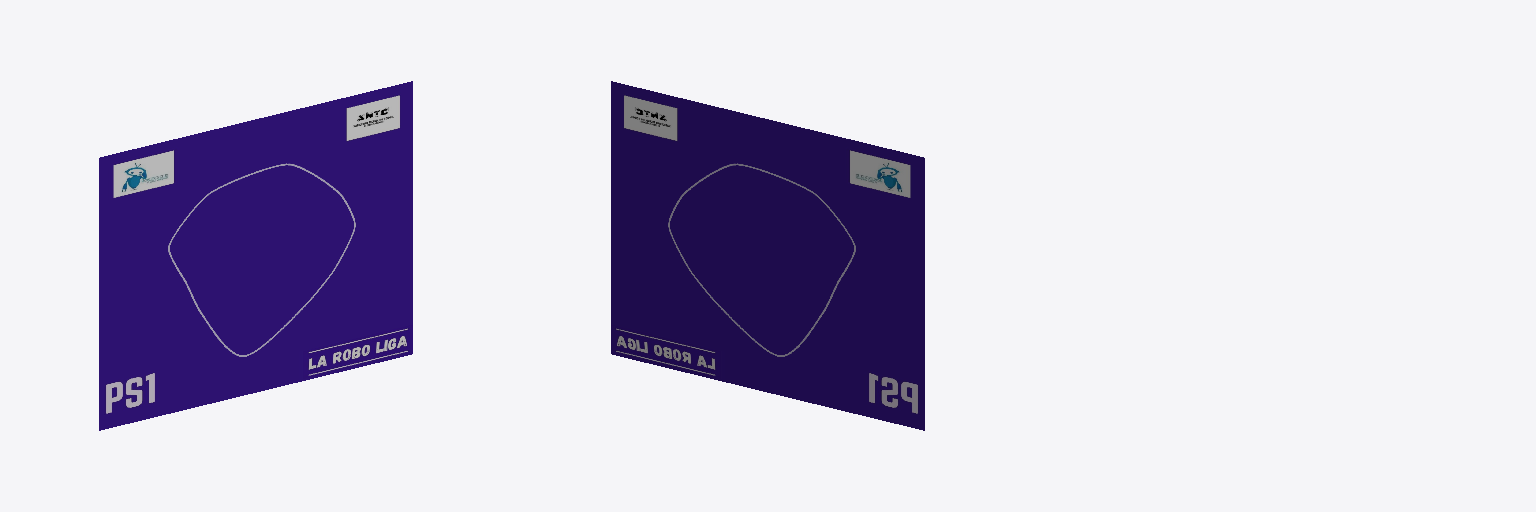
3 renders of one model, left to right at view 1: azimuth 30°, elevation 25°; view 2: azimuth 150°, elevation 25°; view 3: azimuth 270°, elevation 25°, orthographic.
Visible parts, largest first — view 1: Plane; view 2: Plane; view 3: none.
Part boxes in pixels (x1,y1,x2,y2): Plane: (99, 81, 412, 430); Plane: (611, 81, 924, 430).
Bounding box in the file's own units: 3 × 2.5 × 0.
1 materials, 1 textured.